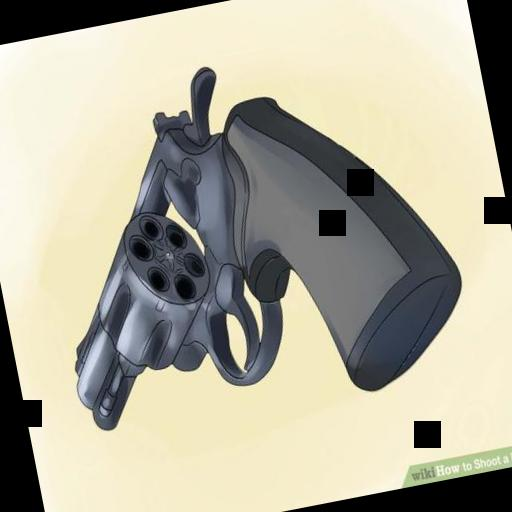Handgun: (19, 26, 467, 448)
